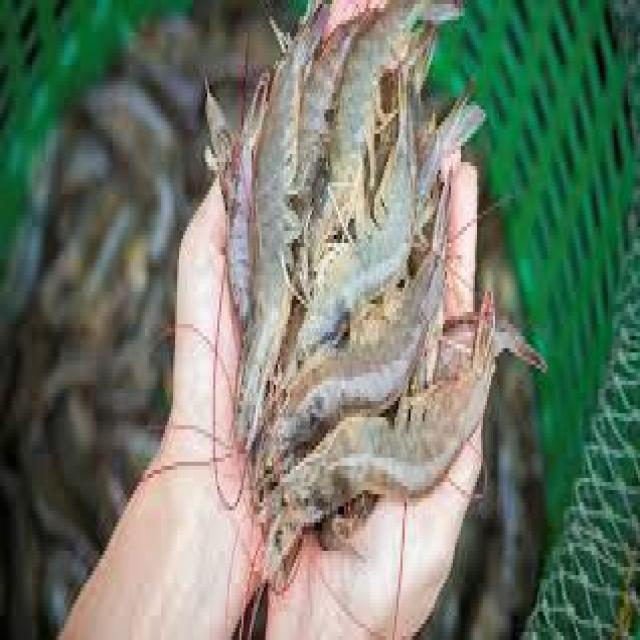shrimp: (304, 11, 402, 245), (263, 409, 470, 518), (302, 166, 415, 352), (250, 39, 304, 367), (276, 356, 418, 422), (225, 107, 256, 331)
